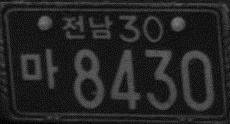0: (180, 47, 213, 109), (141, 14, 164, 44)
3: (142, 46, 179, 111), (117, 13, 140, 43)
4: (112, 48, 140, 109)
8: (73, 47, 106, 108)
마: (19, 46, 58, 91)
전남_O: (62, 13, 113, 41)
